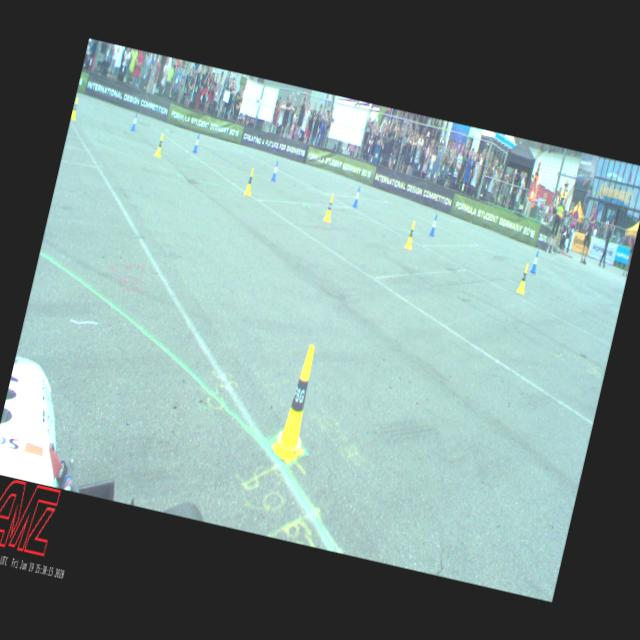blue_cone: (529, 250, 540, 274), (352, 185, 362, 208), (428, 213, 438, 236), (270, 160, 280, 182), (130, 112, 139, 132), (192, 133, 201, 153)
yellow_cone: (267, 342, 327, 466), (516, 262, 530, 294), (404, 220, 417, 248), (323, 192, 335, 222), (244, 167, 256, 195), (154, 133, 166, 157), (70, 96, 80, 120)
